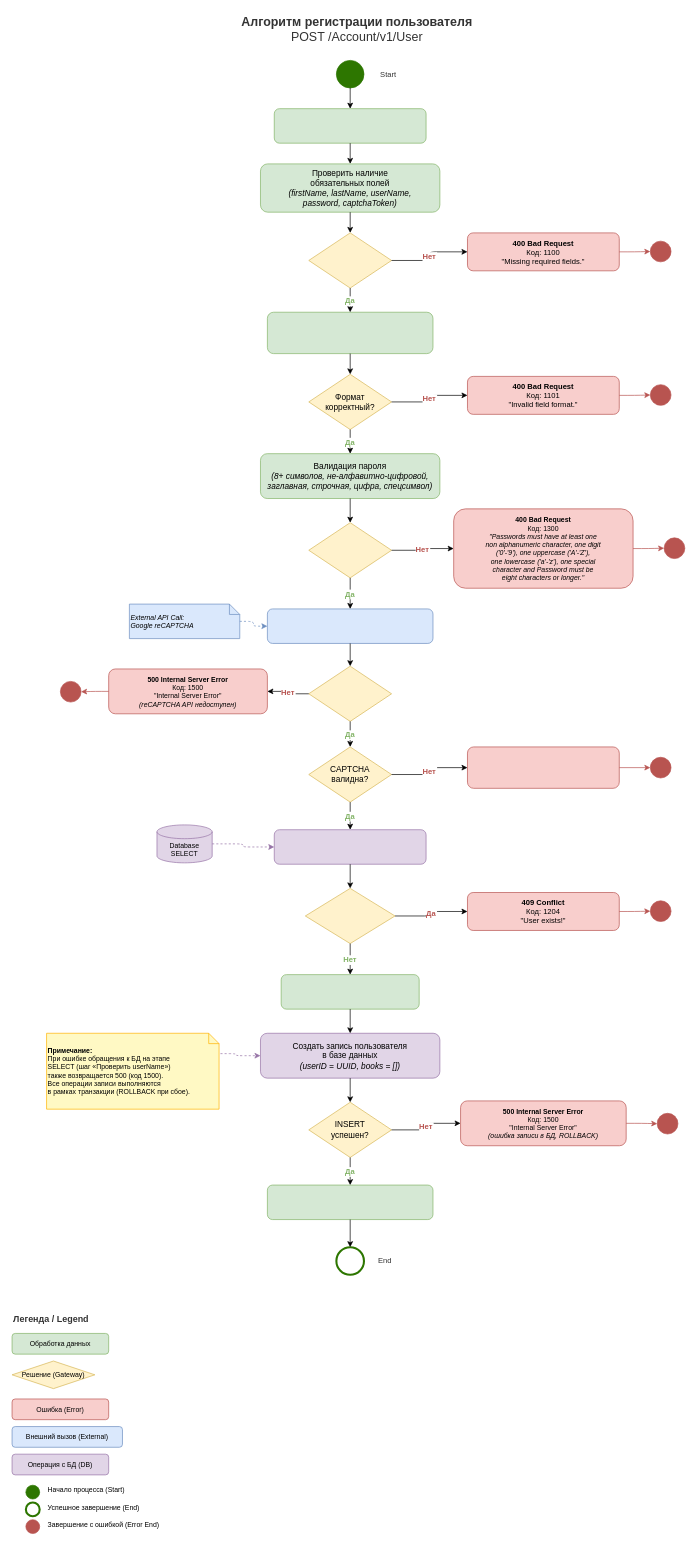
This 697x1546 diagram has some shape labels left out. The shapes that lost their labels are listed below. From the top down, each one's box as (x1, y1, x2, y2) in pixels, then its label:
(274, 108, 426, 143): Получить POST запрос /Account/v1/User
(308, 232, 392, 288): Все поля заполнены?
(267, 312, 433, 354): Валидация форматов полей (длина 1-100 символов, допустимые символы)
(308, 522, 392, 578): Пароль валидный?
(267, 608, 433, 643): Верификация reCAPTCHA (запрос к Google reCAPTCHA API)
(308, 666, 392, 721): API доступен?
(467, 746, 619, 788): 400 Bad Request Код: 1200 "Please verify reCaptcha to register."
(274, 829, 426, 864): Проверить userName в базе данных (транзакция)
(305, 888, 395, 944): Пользователь существует?
(280, 974, 419, 1009): Хэшировать пароль (bcrypt)
(267, 1184, 433, 1220): Вернуть 201 Created { userID, username, books: [] }
